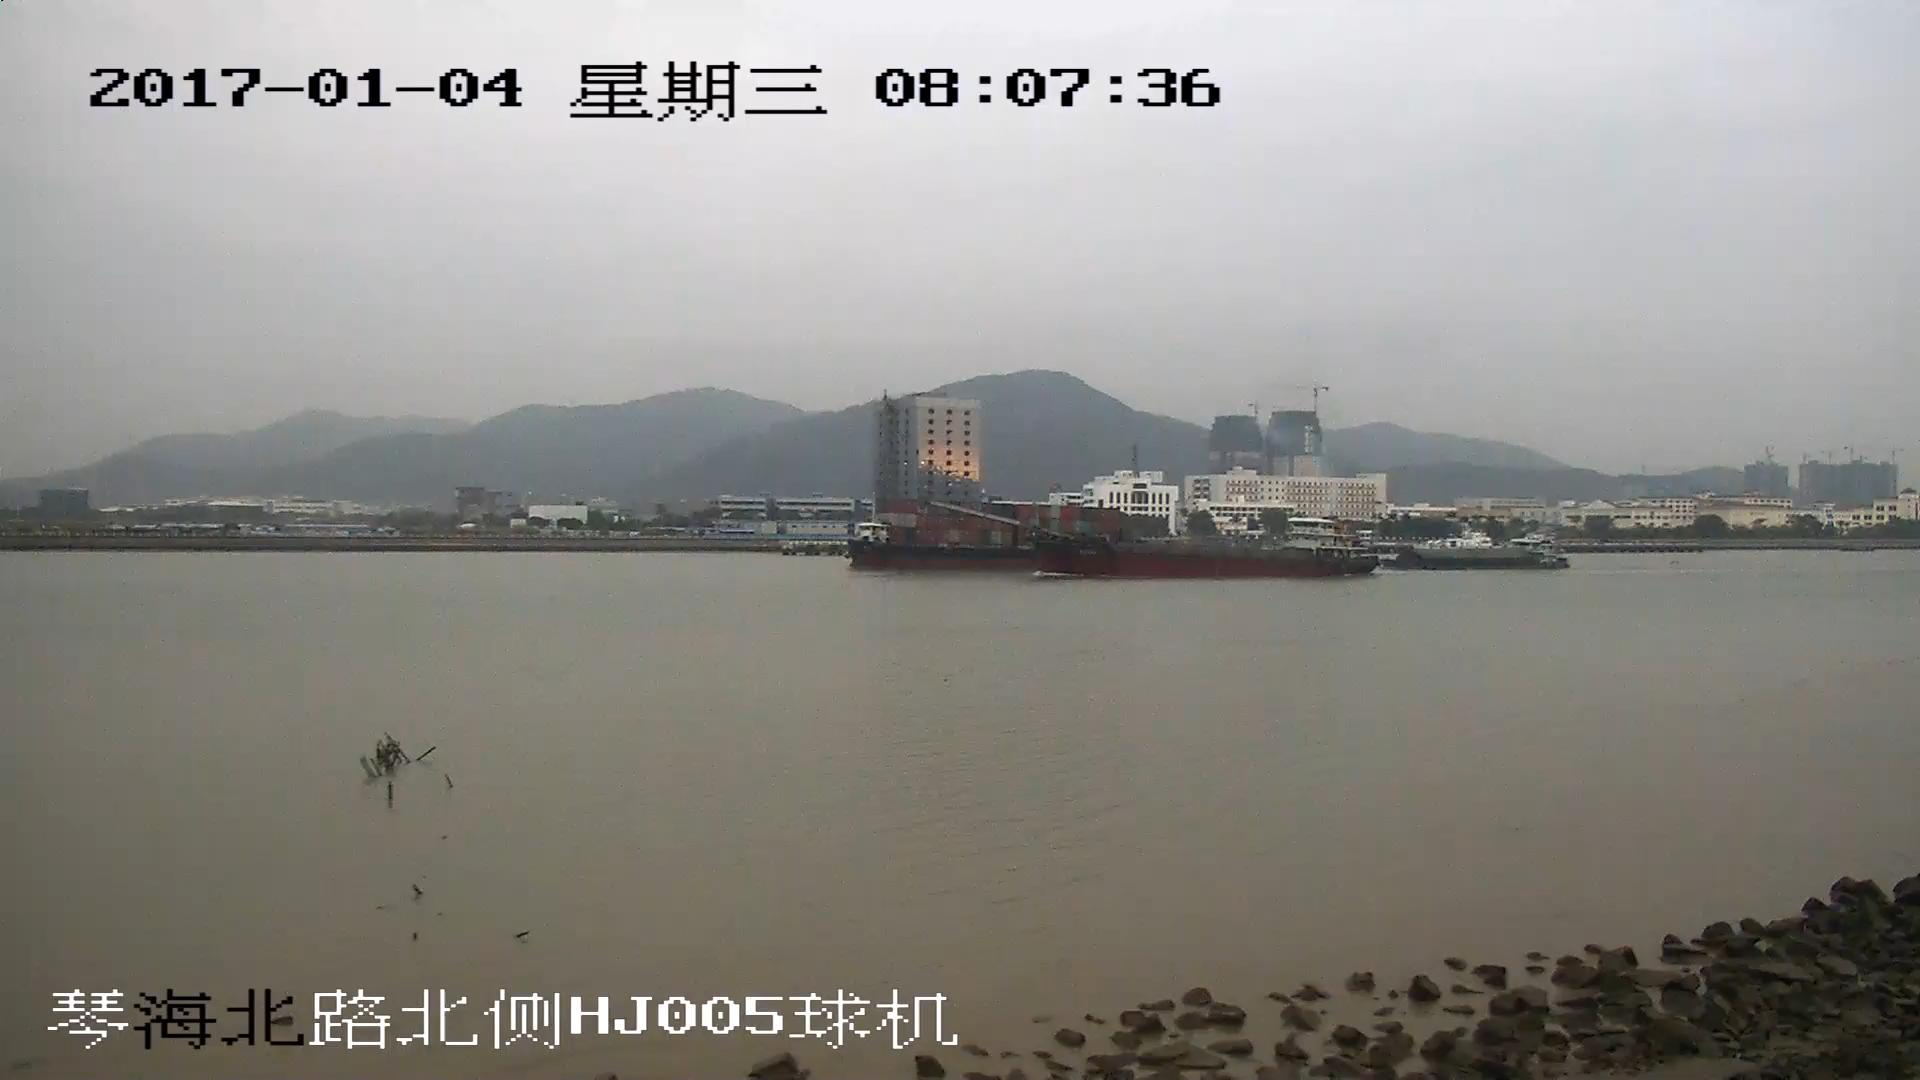Ship: (932, 501, 1369, 574), (848, 502, 1027, 553), (1390, 545, 1567, 571)
